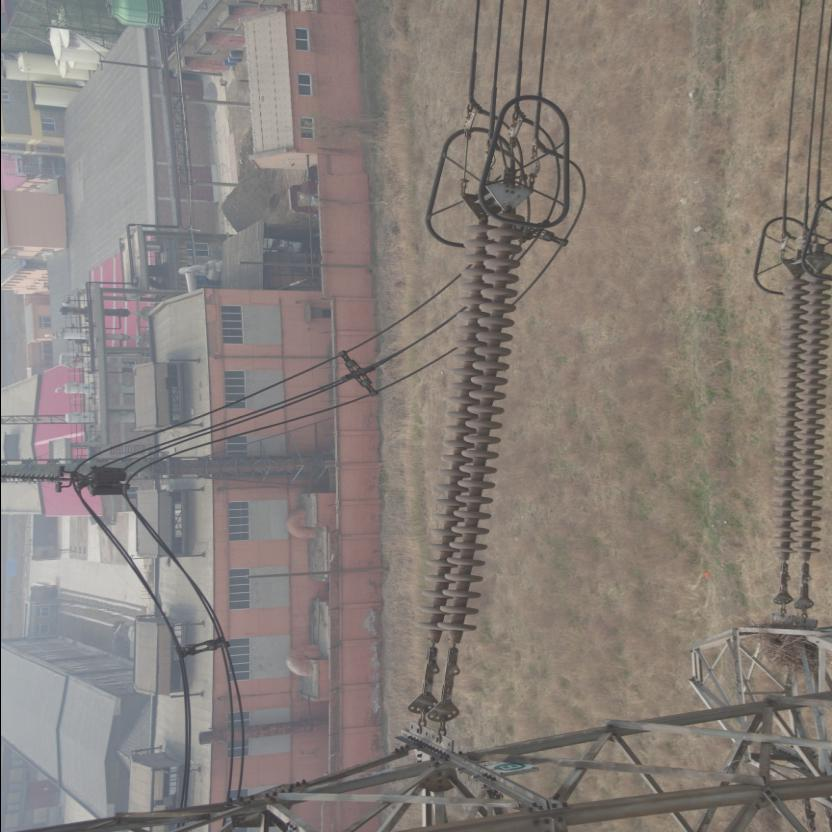insulator: (410, 202, 524, 676), (764, 266, 832, 584)
